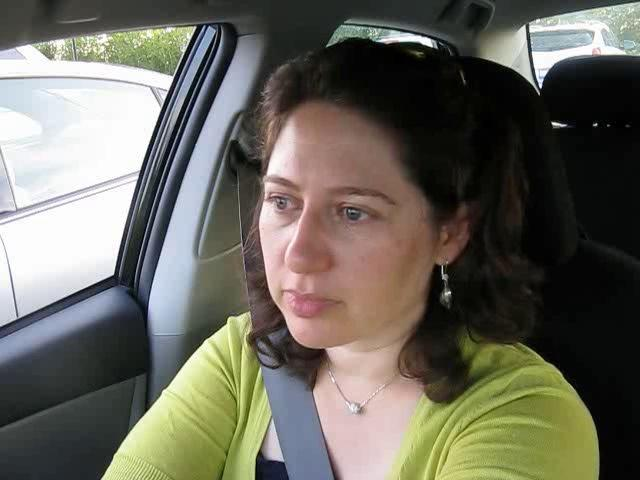no_yawn: (265, 282, 349, 325)
open_eyeL: (252, 182, 307, 223)
open_eyeR: (324, 195, 396, 233)
